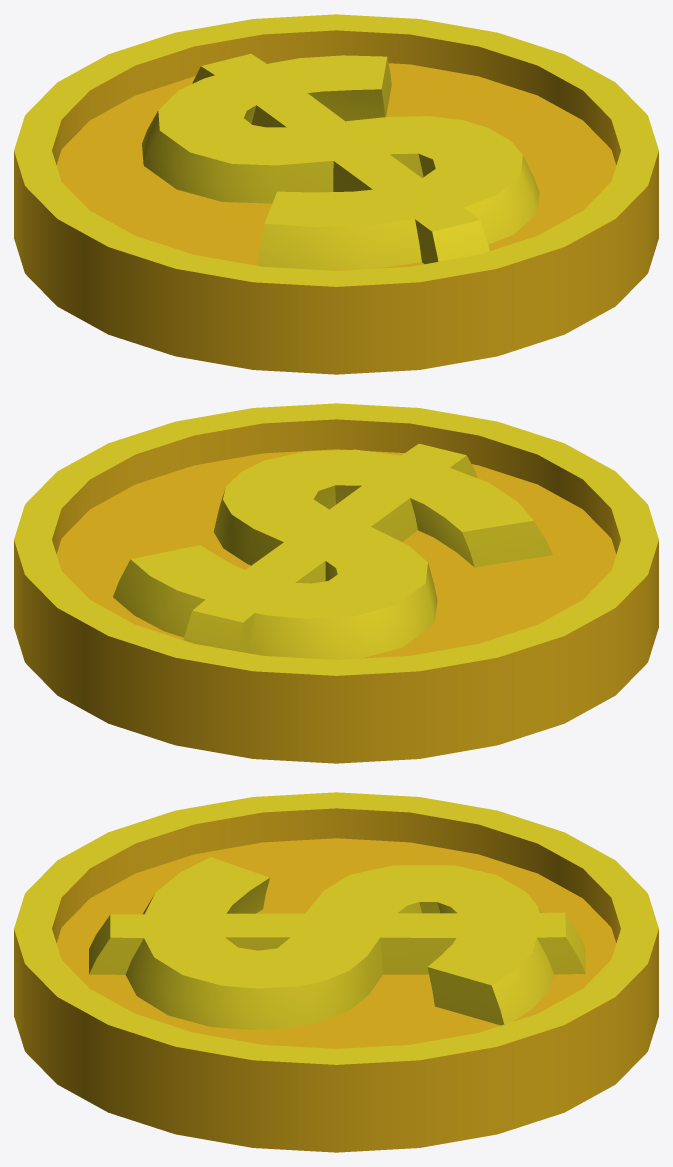
The model's file is Dolar_Coin.fbx.
3 views of the same model, one above another, from view 1: azimuth 30°, elevation 25°; view 2: azimuth 150°, elevation 25°; view 3: azimuth 270°, elevation 25° (orthographic).
Visible parts, largest first — view 1: Cylinder; view 2: Cylinder; view 3: Cylinder.
Boxes of the visible parts, <box> form: Cylinder: <box>14,14,658,374</box>; Cylinder: <box>14,403,658,763</box>; Cylinder: <box>14,792,658,1152</box>.
Size of the model in its own units: 20 by 3.4 by 20.
